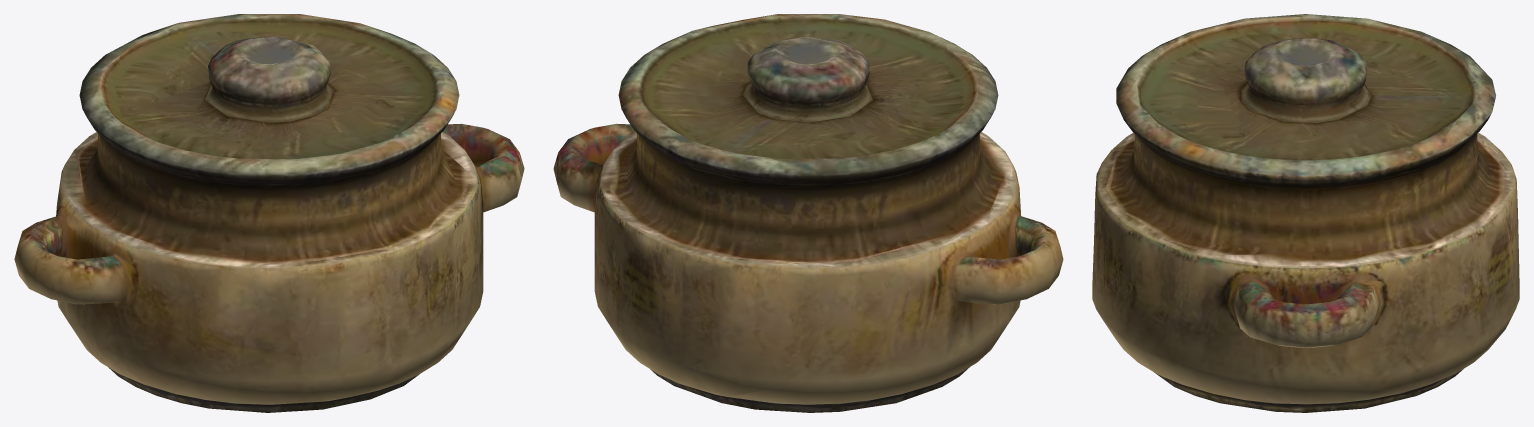
The model's file is ceramic_pot.glb.
3 renders of one model, left to right at view 1: azimuth 30°, elevation 25°; view 2: azimuth 150°, elevation 25°; view 3: azimuth 270°, elevation 25°, orthographic.
Visible parts, largest first — view 1: ceramic_pot; view 2: ceramic_pot; view 3: ceramic_pot.
Part boxes in pixels (<box>): ceramic_pot: <box>14,14,524,412</box>; ceramic_pot: <box>553,14,1063,412</box>; ceramic_pot: <box>1092,14,1519,412</box>.
Bounding box in the file's own units: 0.6563 × 0.3717 × 0.4989.
1 material, 1 textured.
